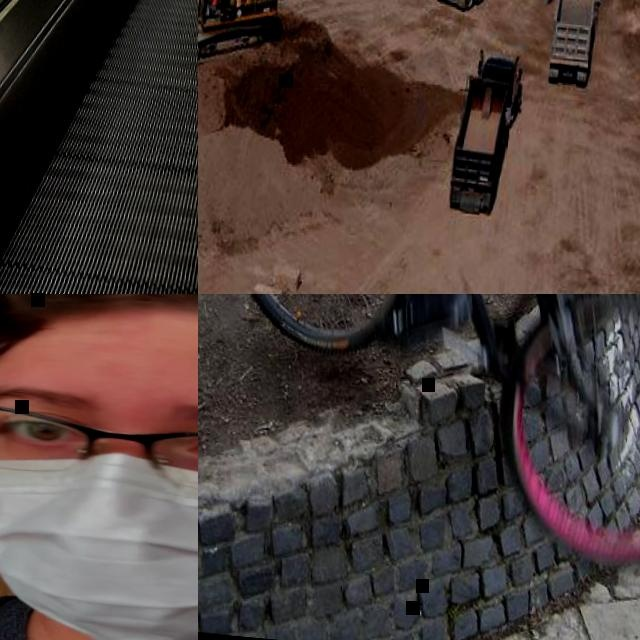Mask: (0, 447, 198, 640)
NO-Hardhat: (0, 294, 198, 406)
Person: (0, 294, 198, 640), (210, 0, 221, 8)
Safety Vest: (210, 0, 221, 7)
machinery: (446, 45, 526, 219), (546, 0, 611, 87)
